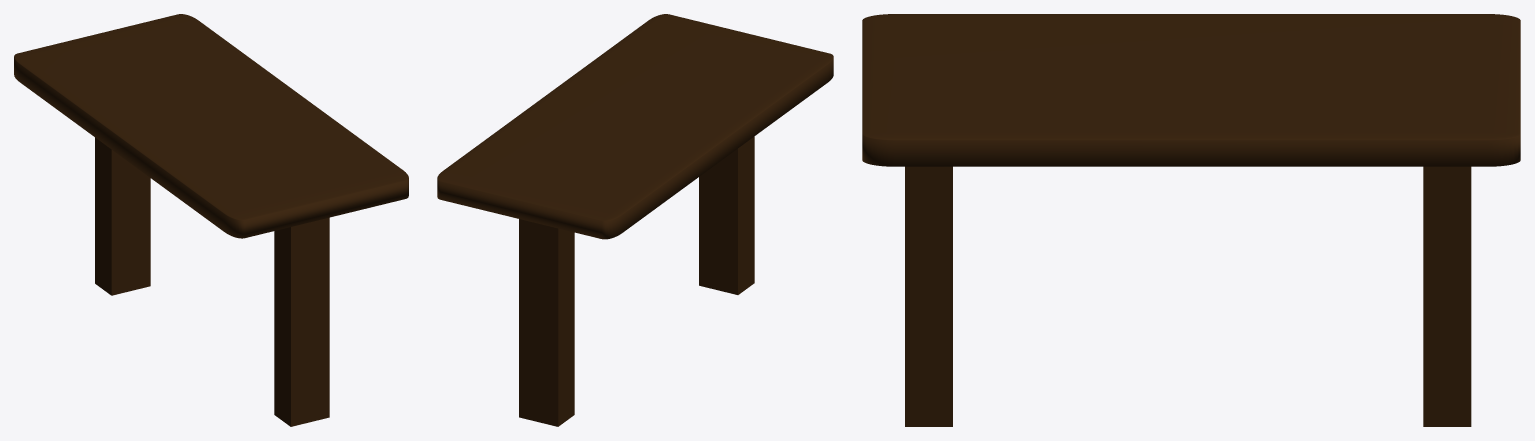
File: table.glb
3 renders of one model, left to right at view 1: azimuth 30°, elevation 25°; view 2: azimuth 150°, elevation 25°; view 3: azimuth 270°, elevation 25°, orthographic. The views are drawn at different scales.
Parts seen in each view (by area): view 1: Cube; view 2: Cube; view 3: Cube.
Boxes of the visible parts, x1=… form: Cube: x1=14, y1=14, x2=408, y2=426; Cube: x1=437, y1=14, x2=833, y2=426; Cube: x1=862, y1=14, x2=1520, y2=426.
Bounding box in the file's own units: 2 × 2.49 × 4.41.
